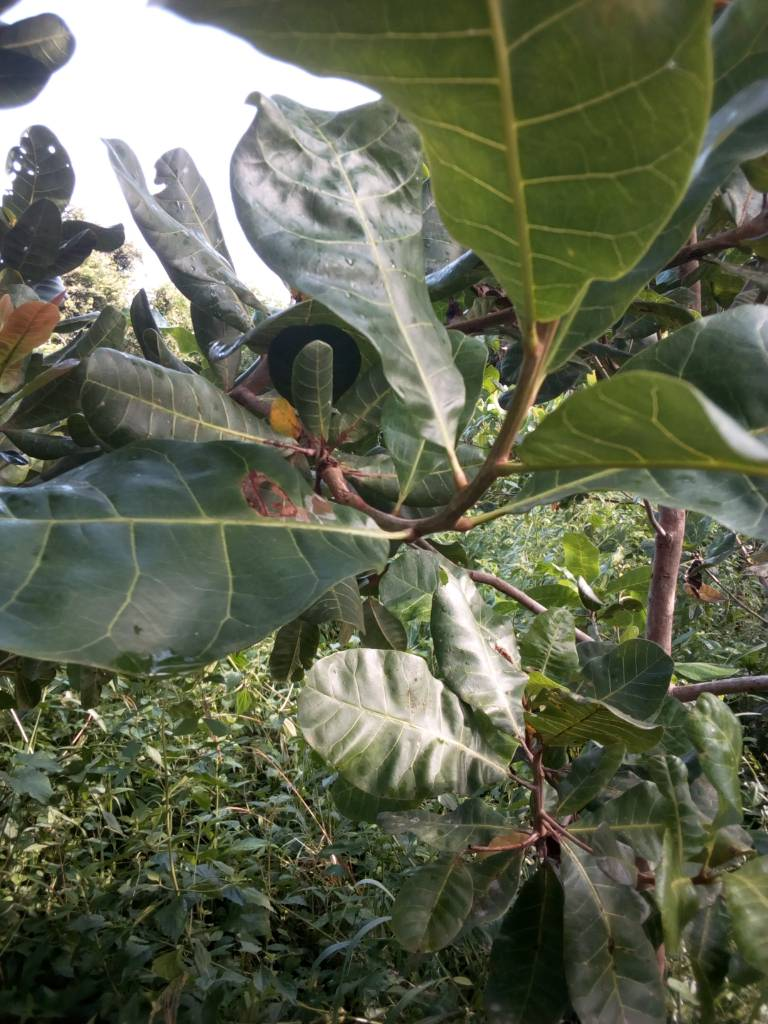Dessèchement des bourgeons: (279, 435, 375, 487)
